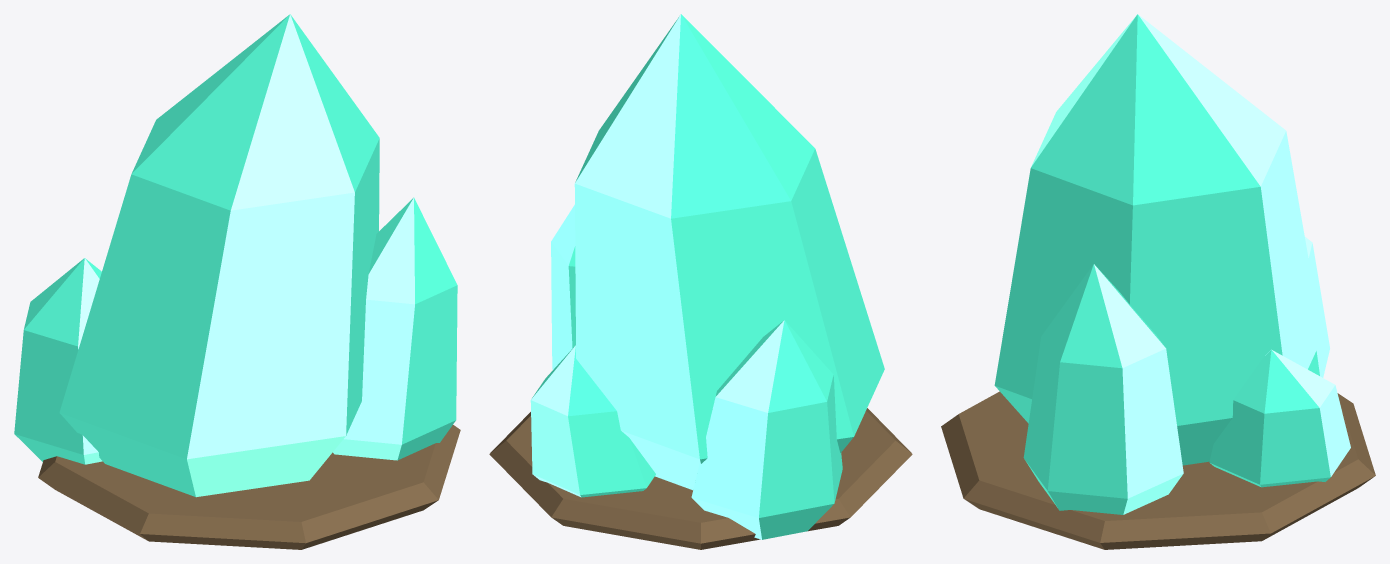
File: SM_PG_CrystalCluster.fbx
3 renders of one model, left to right at view 1: azimuth 30°, elevation 25°; view 2: azimuth 150°, elevation 25°; view 3: azimuth 270°, elevation 25°, orthographic. The views are drawn at different scales.
Parts seen in each view (by area): view 1: SM_PG_CrystalCluster; view 2: SM_PG_CrystalCluster; view 3: SM_PG_CrystalCluster.
Boxes of the visible parts, box(x1,y1,x2,y2) form: SM_PG_CrystalCluster: box(14, 14, 460, 549); SM_PG_CrystalCluster: box(489, 14, 912, 549); SM_PG_CrystalCluster: box(941, 14, 1375, 549).
Bounding box in the file's own units: 84.9 × 84.09 × 99.62.
